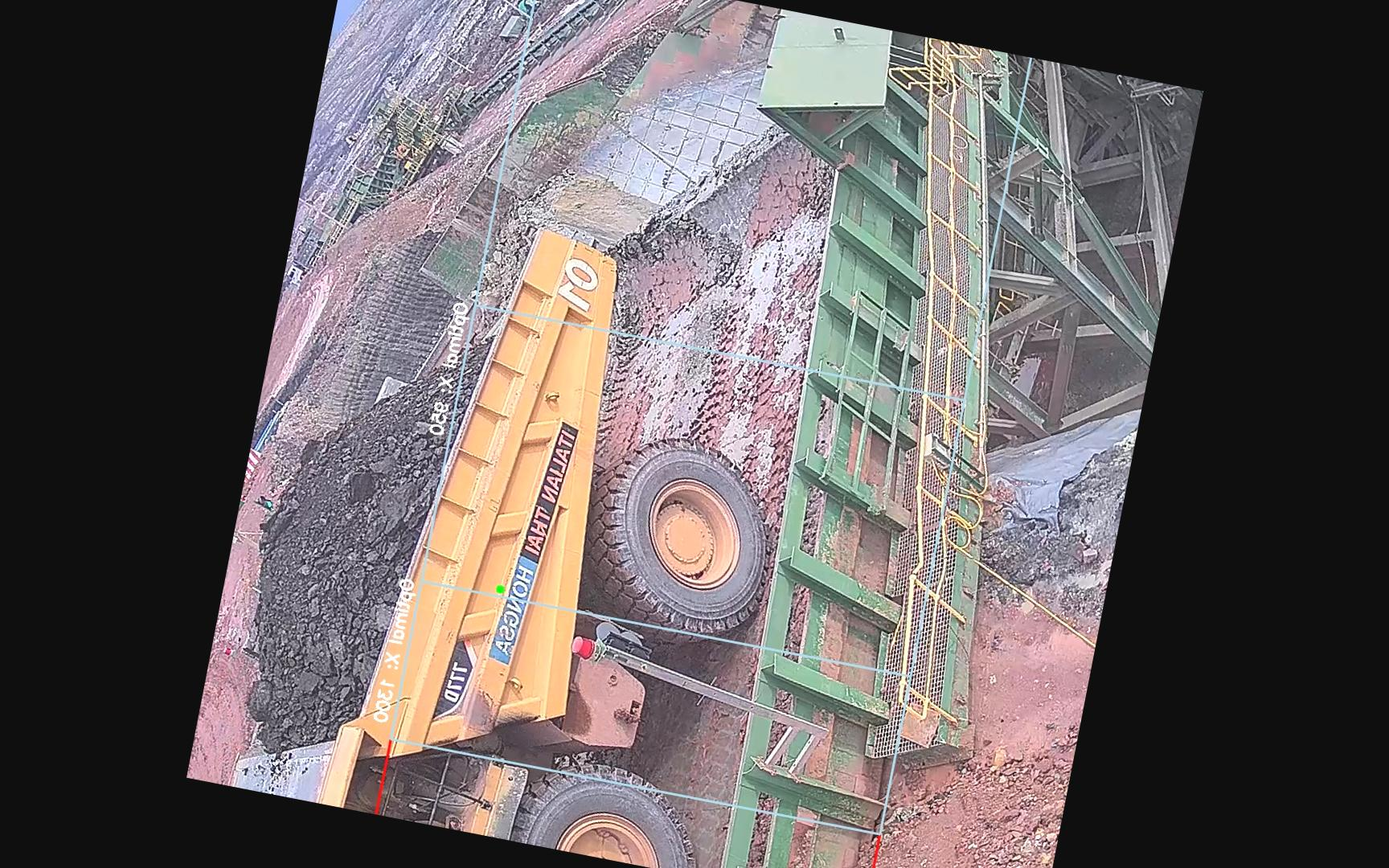company: (471, 403, 590, 679)
full_load: (221, 384, 469, 751)
mining_truck: (196, 169, 821, 868)
tail_number: (545, 250, 611, 316)
truck_size: (431, 639, 477, 717)
